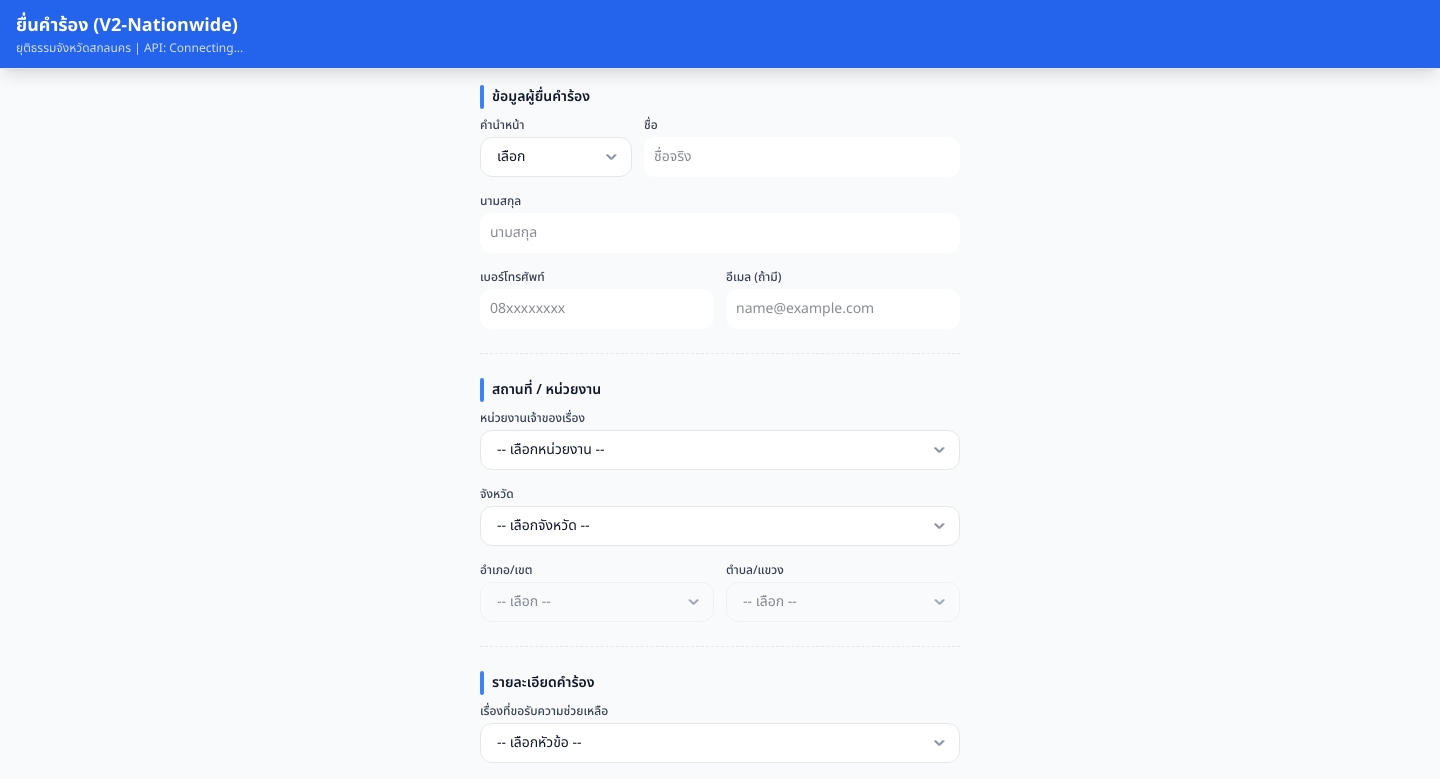
Scenario: LIFF request-v2 validation (D4) › rejects over-long phone numbers without submitting (D4/F7 parity)
The image size is (1440, 779).
Type "0812345678901234" into the field labelled "เบอร์โทรศัพท์" at (597, 309), box [480, 289, 714, 329]
(page scrolled)
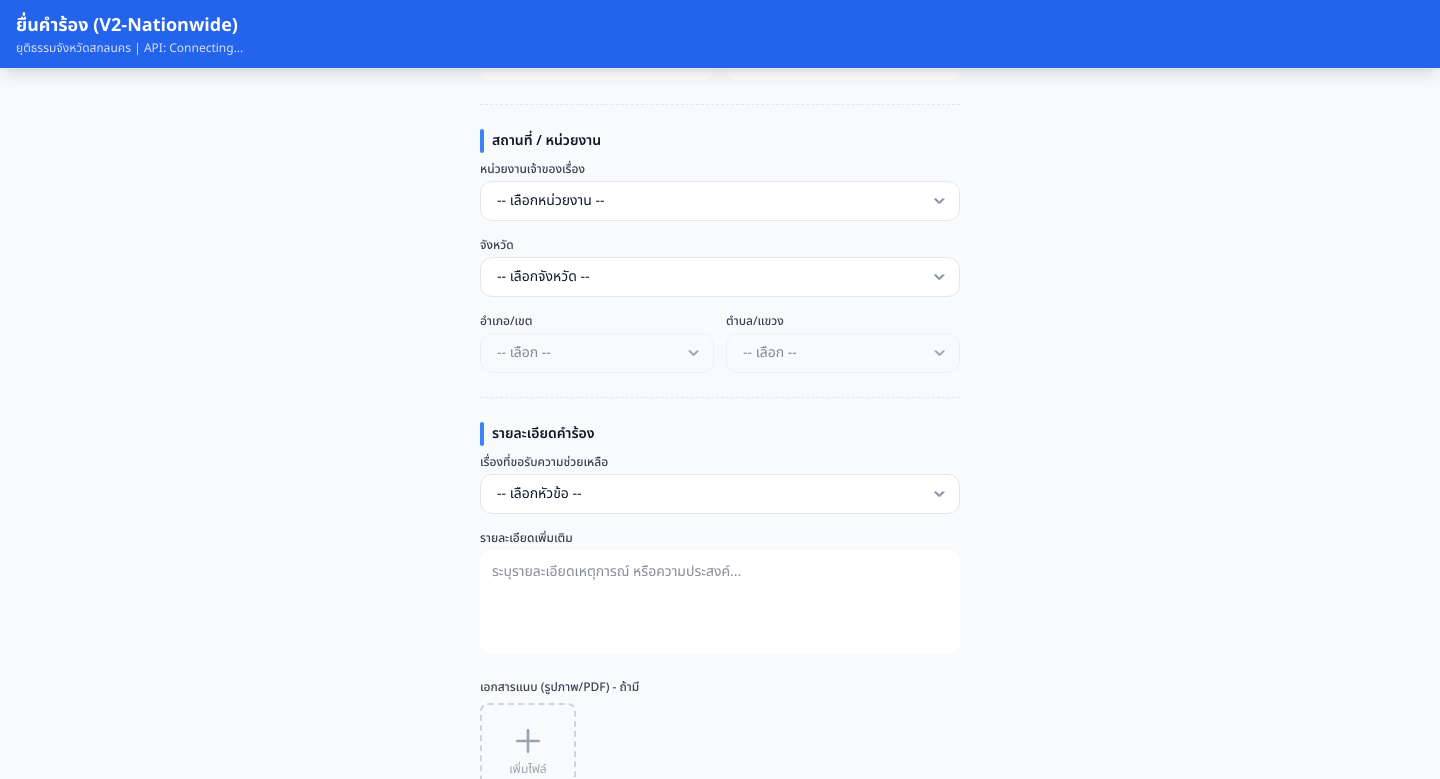
Submit the form
(page scrolled)
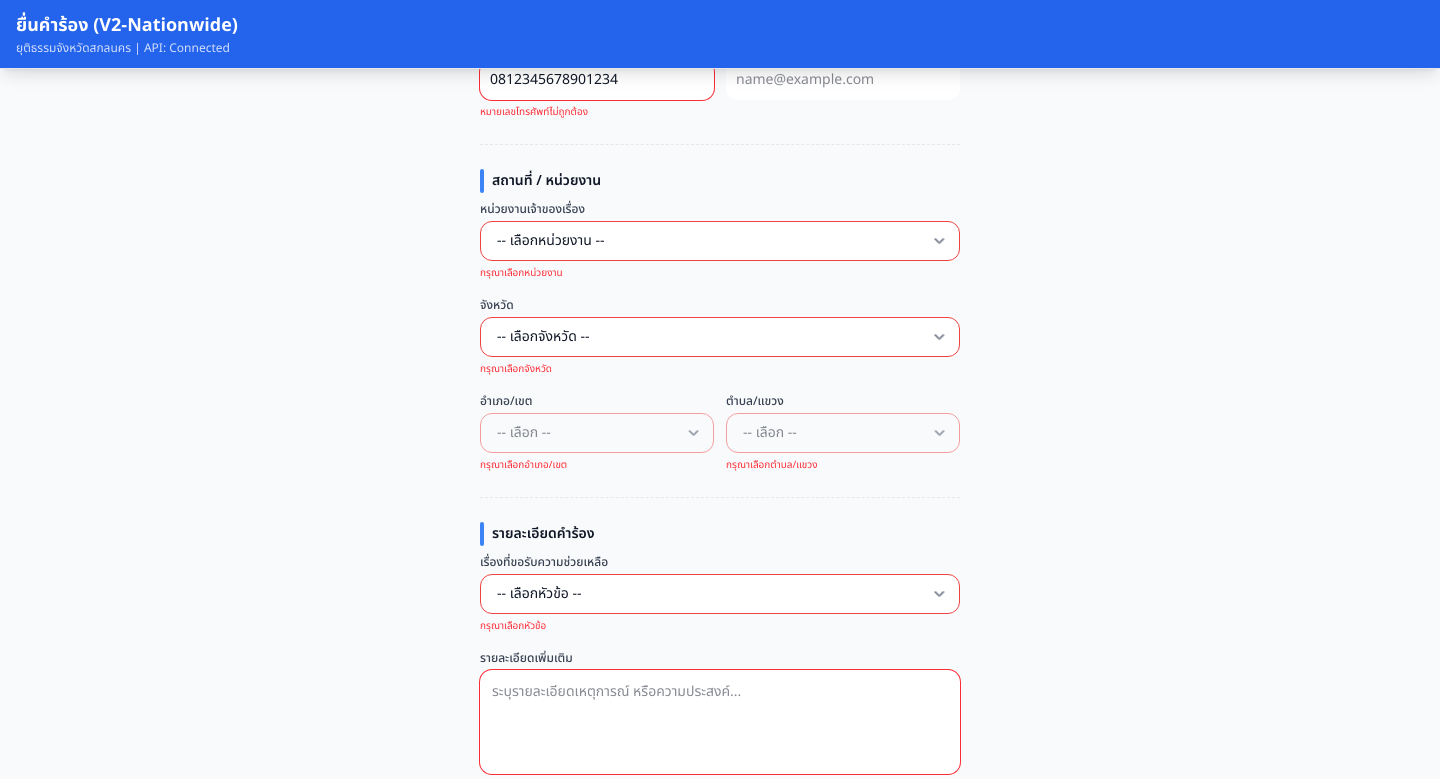
Check: the text "หมายเลขโทรศัพท์ไม่ถูกต้อง" is shown, box [480, 104, 588, 120]
